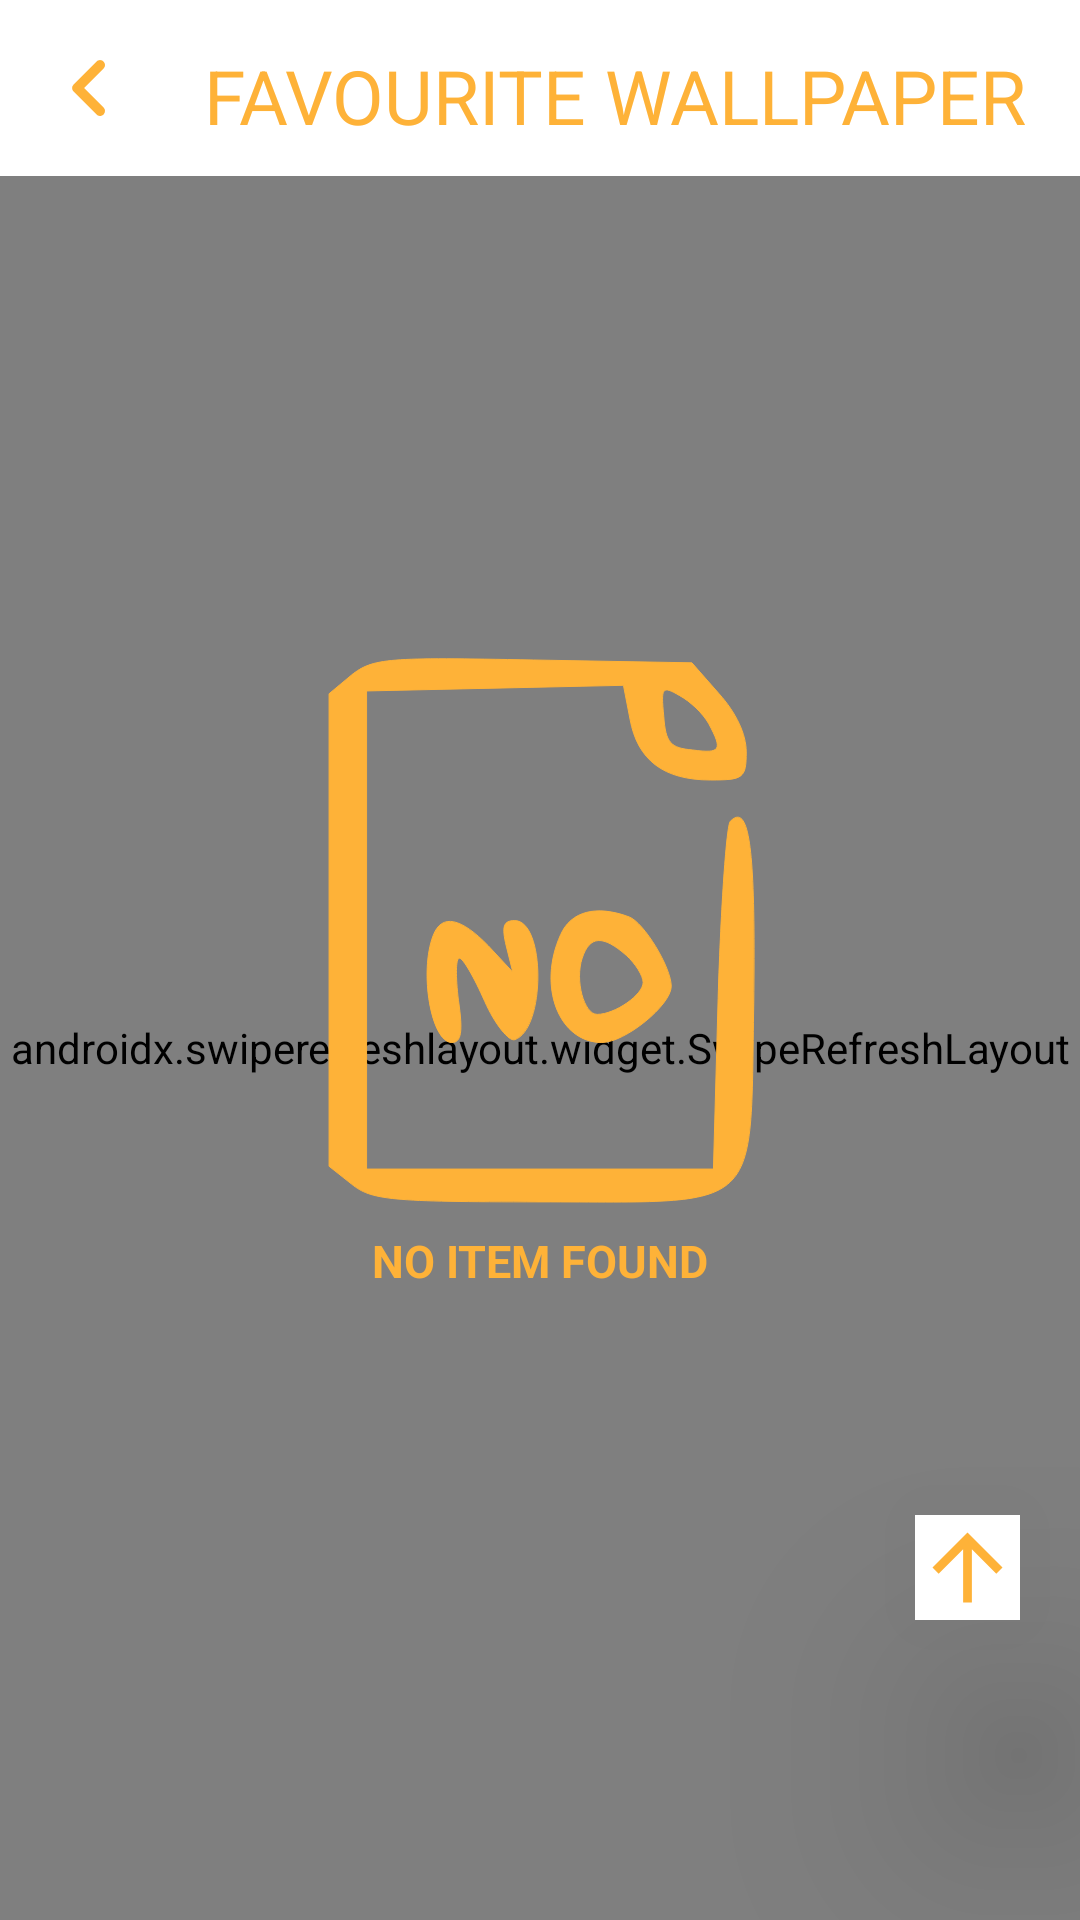

Icons on this 1080px x 1920px Android screen, each with its box as [x1, y1, x2, y2]:
arrow upward: [915, 1515, 1020, 1620]
back: [72, 60, 105, 116]
